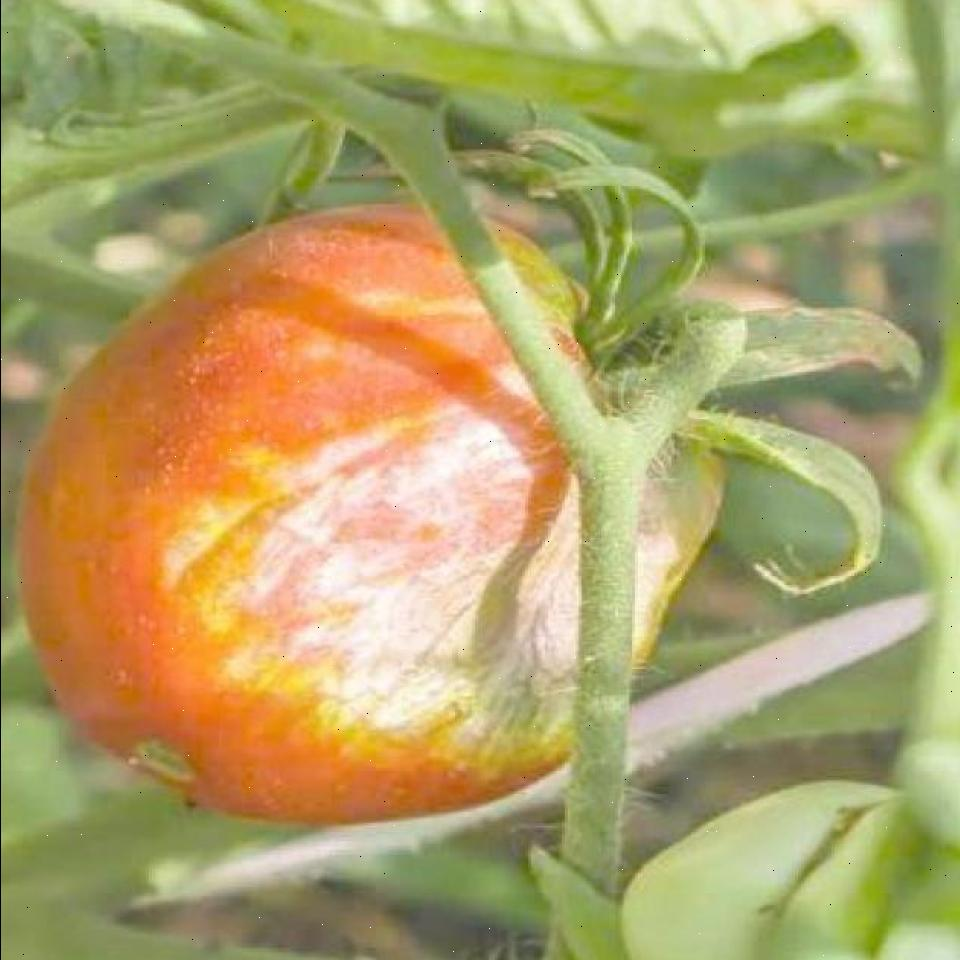Sunscald: (176, 360, 674, 792)
